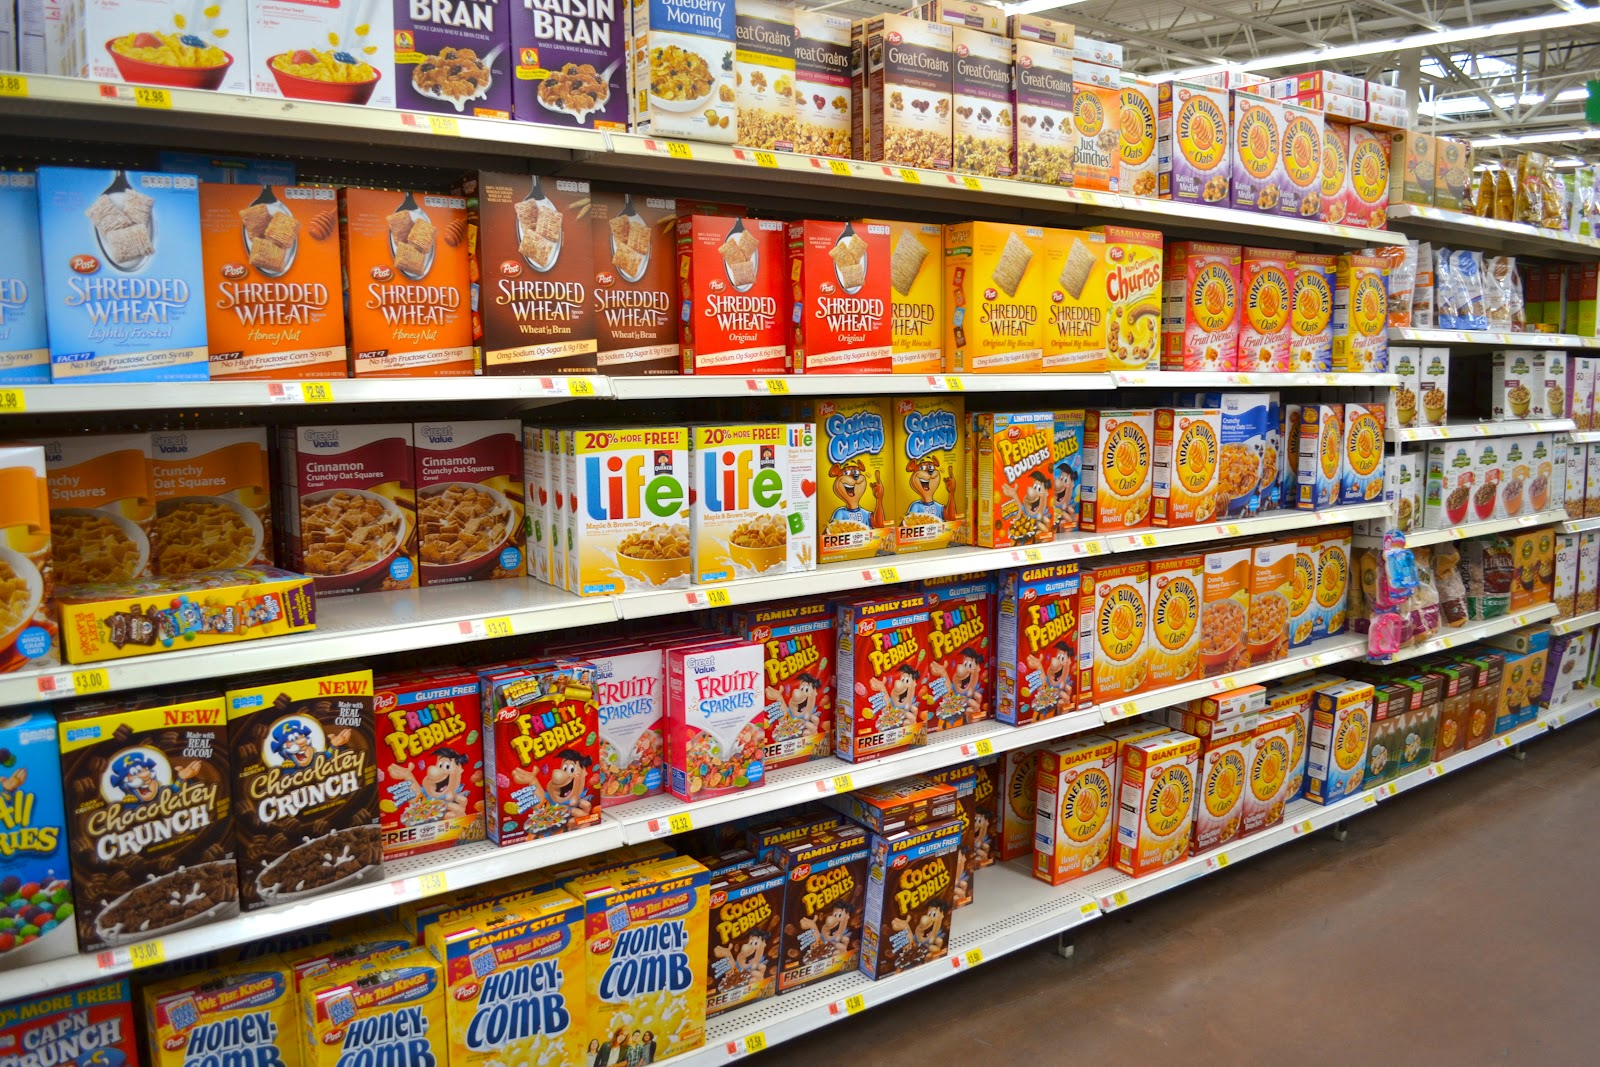cereal: (86, 704, 227, 946), (52, 183, 210, 395), (238, 670, 358, 917), (200, 187, 340, 386), (340, 181, 480, 380), (476, 173, 599, 368), (583, 880, 704, 1067), (404, 426, 529, 582), (295, 426, 407, 589), (693, 432, 818, 576), (586, 201, 686, 377), (581, 433, 688, 595), (492, 688, 607, 838), (793, 221, 895, 376), (377, 685, 471, 853), (870, 830, 971, 982), (694, 213, 785, 372), (765, 606, 840, 770), (680, 663, 770, 793), (963, 227, 1044, 368), (923, 592, 995, 735), (1015, 585, 1086, 720), (1046, 239, 1110, 372), (994, 422, 1057, 547), (1186, 247, 1245, 373), (1094, 414, 1156, 533), (1168, 93, 1235, 196), (1238, 251, 1294, 366), (1140, 757, 1194, 868), (1193, 744, 1250, 846), (1165, 411, 1215, 526), (1232, 105, 1287, 206), (1246, 734, 1290, 834)
